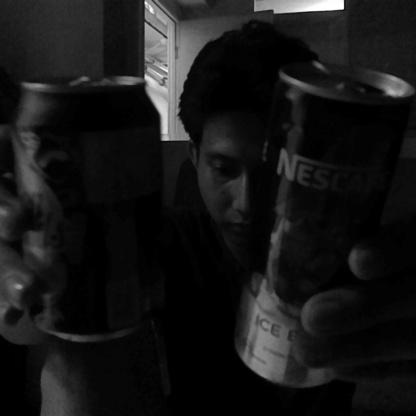alumunium_can: (230, 57, 416, 390), (11, 70, 164, 342)
